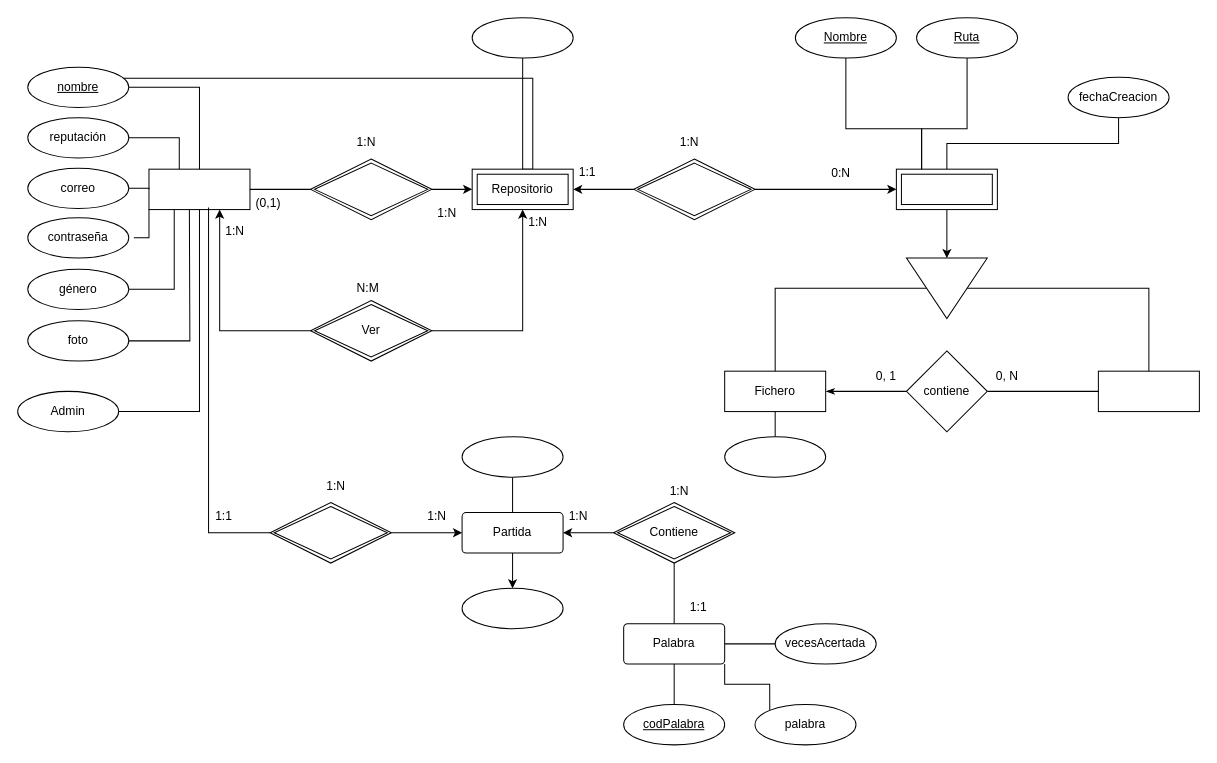
This 1217x763 diagram has some shape labels left out. The box of each missing label's shape, as (x1, y1, x2, y2) in pixels:
Archivo: (895, 168, 997, 210)
Carpeta: (1097, 370, 1199, 412)
codPartida: (461, 587, 563, 629)
Extension: (724, 436, 826, 477)
fecha Juego: (461, 436, 563, 477)
Incluye: (633, 158, 755, 220)
Juega: (269, 501, 391, 563)
nombre Repo: (471, 17, 573, 58)
Posee: (310, 158, 432, 220)
Usuario: (148, 168, 250, 210)
